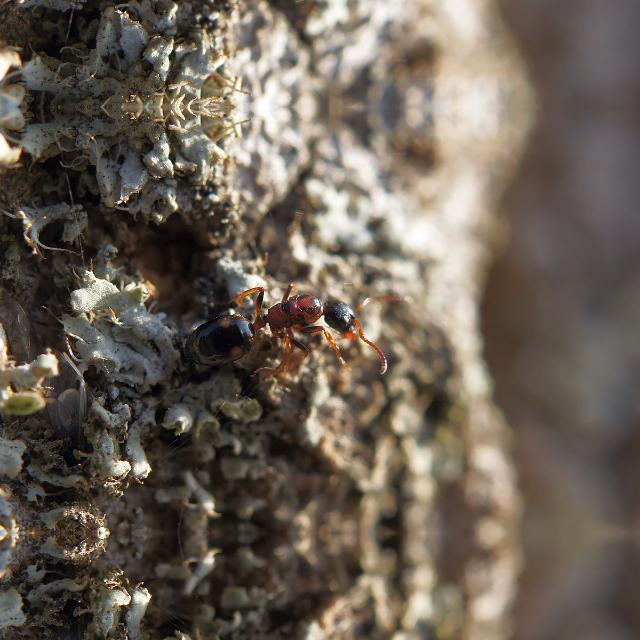Dolichoderus: (154, 260, 402, 378)
